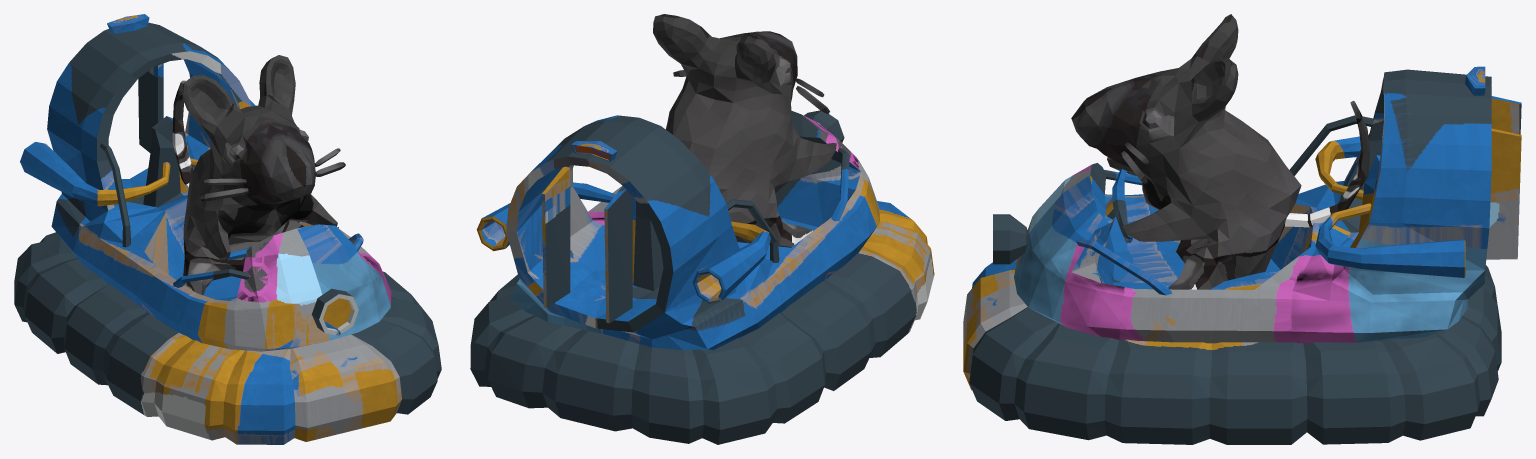
File: kart.glb
3 views of the same model, side by side, from view 1: azimuth 30°, elevation 25°; view 2: azimuth 150°, elevation 25°; view 3: azimuth 270°, elevation 25° (orthographic). The views are drawn at different scales.
Parts seen in each view (by area): view 1: body (×2); view 2: body (×2); view 3: body (×2).
Boxes of the visible parts, x1,y1,x2,y2 form: body (×2): [14, 14, 441, 444]; body (×2): [470, 14, 934, 444]; body (×2): [963, 14, 1521, 444].
Size of the model in its own units: 1.01 by 0.945 by 1.45.
Materials: 2 (2 with a texture image).
